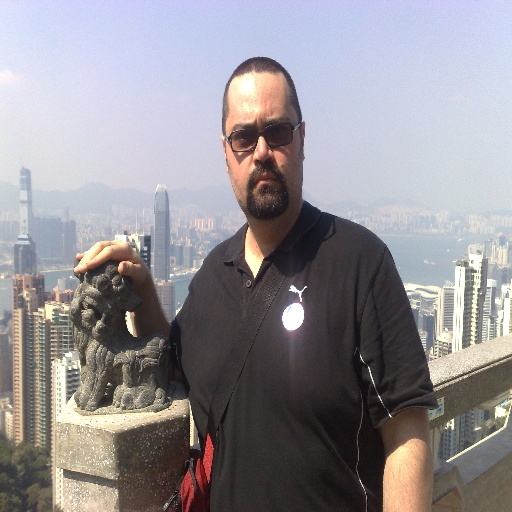hand: (71, 232, 150, 279)
